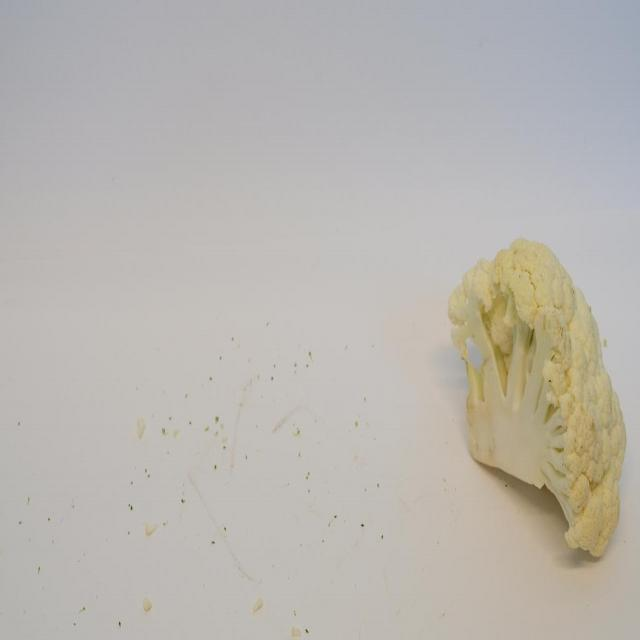cauliflower: (443, 222, 631, 569)
